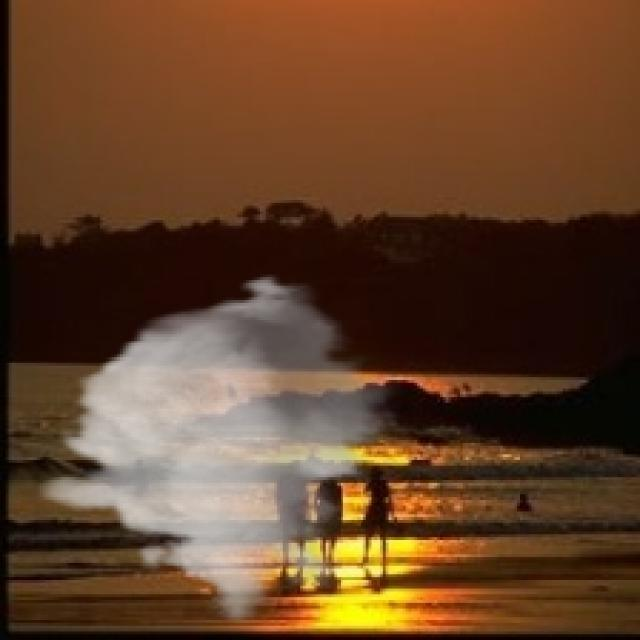Smoke: (37, 272, 406, 622)
